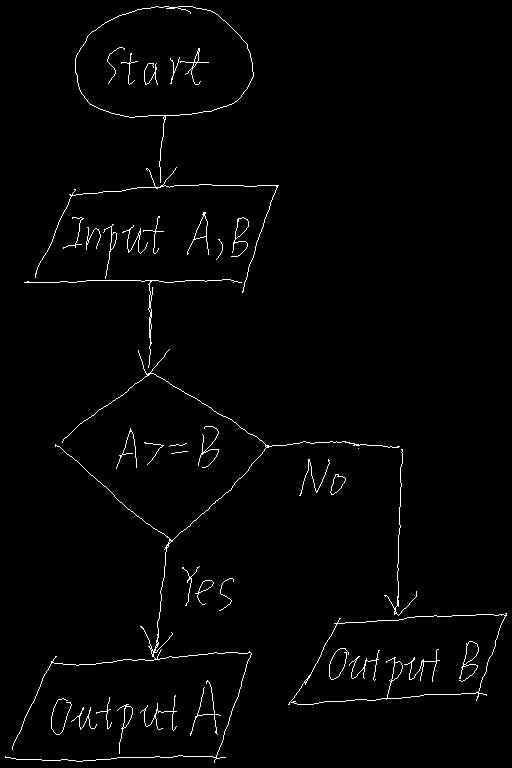arrow: (265, 441, 416, 615), (140, 539, 172, 659), (138, 280, 169, 374), (146, 115, 176, 188)
data: (24, 184, 278, 292), (5, 651, 251, 762), (288, 613, 506, 704)
decision: (55, 373, 268, 549)
terminator: (75, 6, 253, 117)
text: (51, 680, 220, 753), (63, 212, 248, 278), (329, 641, 478, 699), (116, 426, 218, 468), (107, 47, 208, 84), (182, 566, 233, 610), (299, 459, 345, 495)
